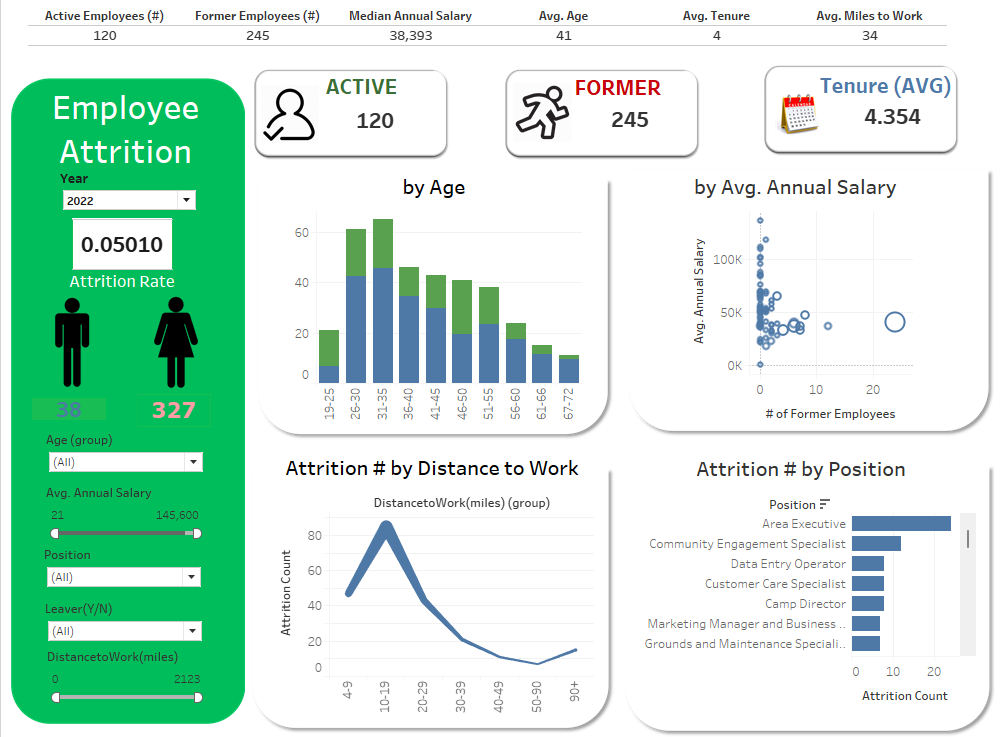

The dashboard page shown, as its layout file describes it:
{"tool":"tableau","page":{"name":"Dashboard 1","canvas":[1000,800],"ordinal":0},"visuals":[{"type":"text","box":[16,5,269,64]},{"type":"worksheet","title":"KPI","mark":"Automatic","box":[20,50,941,90]},{"type":"text","box":[589,107,108,66]},{"type":"text","box":[807,107,146,66]},{"type":"text","box":[325,110,108,66]},{"type":"image","param":"Image/small_outline.png","box":[515,114,209,86]},{"type":"image","param":"Image/small_outline 1.png","box":[248,116,209,86]},{"type":"image","param":"Image/small_outline.png","box":[772,117,209,86]},{"type":"image","param":"Image/Leaver.png","box":[522,123,66,69]},{"type":"image","param":"Image/Active.png","box":[266,125,59,55]},{"type":"image","param":"Image/Calendar.jpg","box":[767,138,52,57]},{"type":"text","box":[25,140,185,113]},{"type":"worksheet","title":"Former(#)","mark":"Automatic","box":[597,141,120,71]},{"type":"worksheet","title":"Active(#)","mark":"Automatic","box":[323,144,120,71]},{"type":"worksheet","title":"Time w/ Comp","mark":"Automatic","box":[833,147,120,75]},{"type":"worksheet","title":"Age","mark":"Automatic","box":[626,217,333,262]},{"type":"legend","title":"Dept","param":"[federated.1afa7fd1sgv89p14da9zd0aywhz8].[none:Leaver(Y/N):nk]","box":[890,218,96,58]},{"type":"worksheet","title":"Dept","mark":"Automatic","cols":["Dept_Name"],"box":[263,224,317,252]},{"type":"image","param":"Image/Outline.png","box":[617,233,370,269]},{"type":"image","param":"Image/Outline.png","box":[246,243,360,267]},{"type":"filter","title":"Annual Attrition Rates","param":"[federated.1w7ha3o00dfkmu12qjwyb0118hxa].[tyr:Calendar:ok]","box":[50,260,131,47]},{"type":"text","box":[47,302,132,85]},{"type":"worksheet","title":"Annual Attrition Rates","mark":"Automatic","cols":["Calendar"],"box":[58,306,115,63]},{"type":"image","param":"Image/female icon.png","box":[120,380,96,96]},{"type":"image","param":"Image/male icon.png","box":[19,382,97,93]},{"type":"worksheet","title":"Male","mark":"Automatic","rows":["Gender"],"box":[35,459,70,65]},{"type":"worksheet","title":"Femaie","mark":"Automatic","rows":["Gender"],"box":[137,459,62,58]},{"type":"worksheet","title":"Left by distance","mark":"Line","rows":["Calculation_5294473950060093440"],"box":[633,515,333,267]},{"type":"worksheet","title":"Attrition by Position","mark":"Automatic","rows":["Position"],"cols":["Calculation_5294473950060093440"],"box":[256,516,333,262]},{"type":"filter","title":"Dept","param":"[federated.1afa7fd1sgv89p14da9zd0aywhz8].[none:Dept_Name:nk]","box":[30,523,160,50]},{"type":"image","param":"Image/Outline.png","box":[613,529,375,268]},{"type":"image","param":"Image/Outline.png","box":[240,532,367,269]},{"type":"filter","title":"Left by distance","param":"[federated.1afa7fd1sgv89p14da9zd0aywhz8].[Action (Position)]","box":[30,579,160,43]},{"type":"filter","title":"Age","param":"[federated.1afa7fd1sgv89p14da9zd0aywhz8].[Age (group)]","box":[31,635,160,49]},{"type":"filter","title":"Attrition by Position","param":"[federated.1afa7fd1sgv89p14da9zd0aywhz8].[none:DistancetoWork(miles):qk]","box":[32,691,160,61]}]}

Visuals, with their boxes on the page's 1000x800 design canvas (x1, y1, x2, y2). These are canvas units, not pixel positions in the 1000x737 screenshot, which may show the page scaled, cropped or inside an application window:
text: (16, 5, 285, 69)
"KPI" worksheet: (20, 50, 961, 140)
text: (589, 107, 697, 173)
text: (807, 107, 953, 173)
text: (325, 110, 433, 176)
image: (515, 114, 724, 200)
image: (248, 116, 457, 202)
image: (772, 117, 981, 203)
image: (522, 123, 588, 192)
image: (266, 125, 325, 180)
image: (767, 138, 819, 195)
text: (25, 140, 210, 253)
"Former(#)" worksheet: (597, 141, 717, 212)
"Active(#)" worksheet: (323, 144, 443, 215)
"Time w/ Comp" worksheet: (833, 147, 953, 222)
"Age" worksheet: (626, 217, 959, 479)
"Dept" legend: (890, 218, 986, 276)
"Dept" worksheet: (263, 224, 580, 476)
image: (617, 233, 987, 502)
image: (246, 243, 606, 510)
"Annual Attrition Rates" filter: (50, 260, 181, 307)
text: (47, 302, 179, 387)
"Annual Attrition Rates" worksheet: (58, 306, 173, 369)
image: (120, 380, 216, 476)
image: (19, 382, 116, 475)
"Male" worksheet: (35, 459, 105, 524)
"Femaie" worksheet: (137, 459, 199, 517)
"Left by distance" worksheet (Line marks): (633, 515, 966, 782)
"Attrition by Position" worksheet: (256, 516, 589, 778)
"Dept" filter: (30, 523, 190, 573)
image: (613, 529, 988, 797)
image: (240, 532, 607, 801)
"Left by distance" filter: (30, 579, 190, 622)
"Age" filter: (31, 635, 191, 684)
"Attrition by Position" filter: (32, 691, 192, 752)
